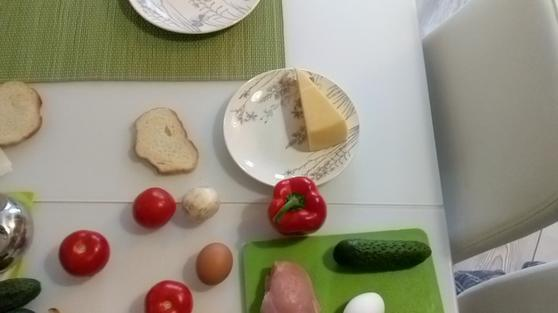champignon: (182, 187, 220, 216)
cheese: (296, 69, 346, 149)
chicken_fillet: (254, 258, 319, 313)
cucumber: (334, 235, 434, 269), (1, 278, 43, 312)
egg: (200, 240, 232, 284), (338, 288, 387, 313)
pepper: (274, 176, 325, 235)
tomato: (59, 227, 111, 276), (132, 188, 179, 227), (145, 280, 192, 313)
white_bread: (128, 102, 200, 174), (1, 80, 47, 148)
